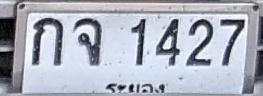1: (130, 18, 146, 65)
2: (186, 18, 213, 66)
4: (155, 18, 180, 66)
7: (220, 18, 244, 66)
A01: (31, 17, 63, 66)
A08: (73, 17, 102, 65)
RYG: (106, 81, 166, 96)
